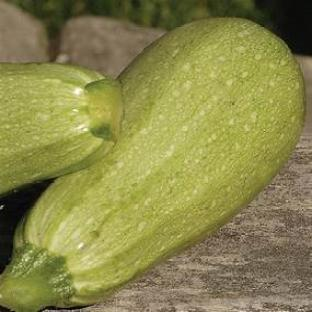Zucchini: (0, 18, 305, 311), (0, 64, 122, 194)
